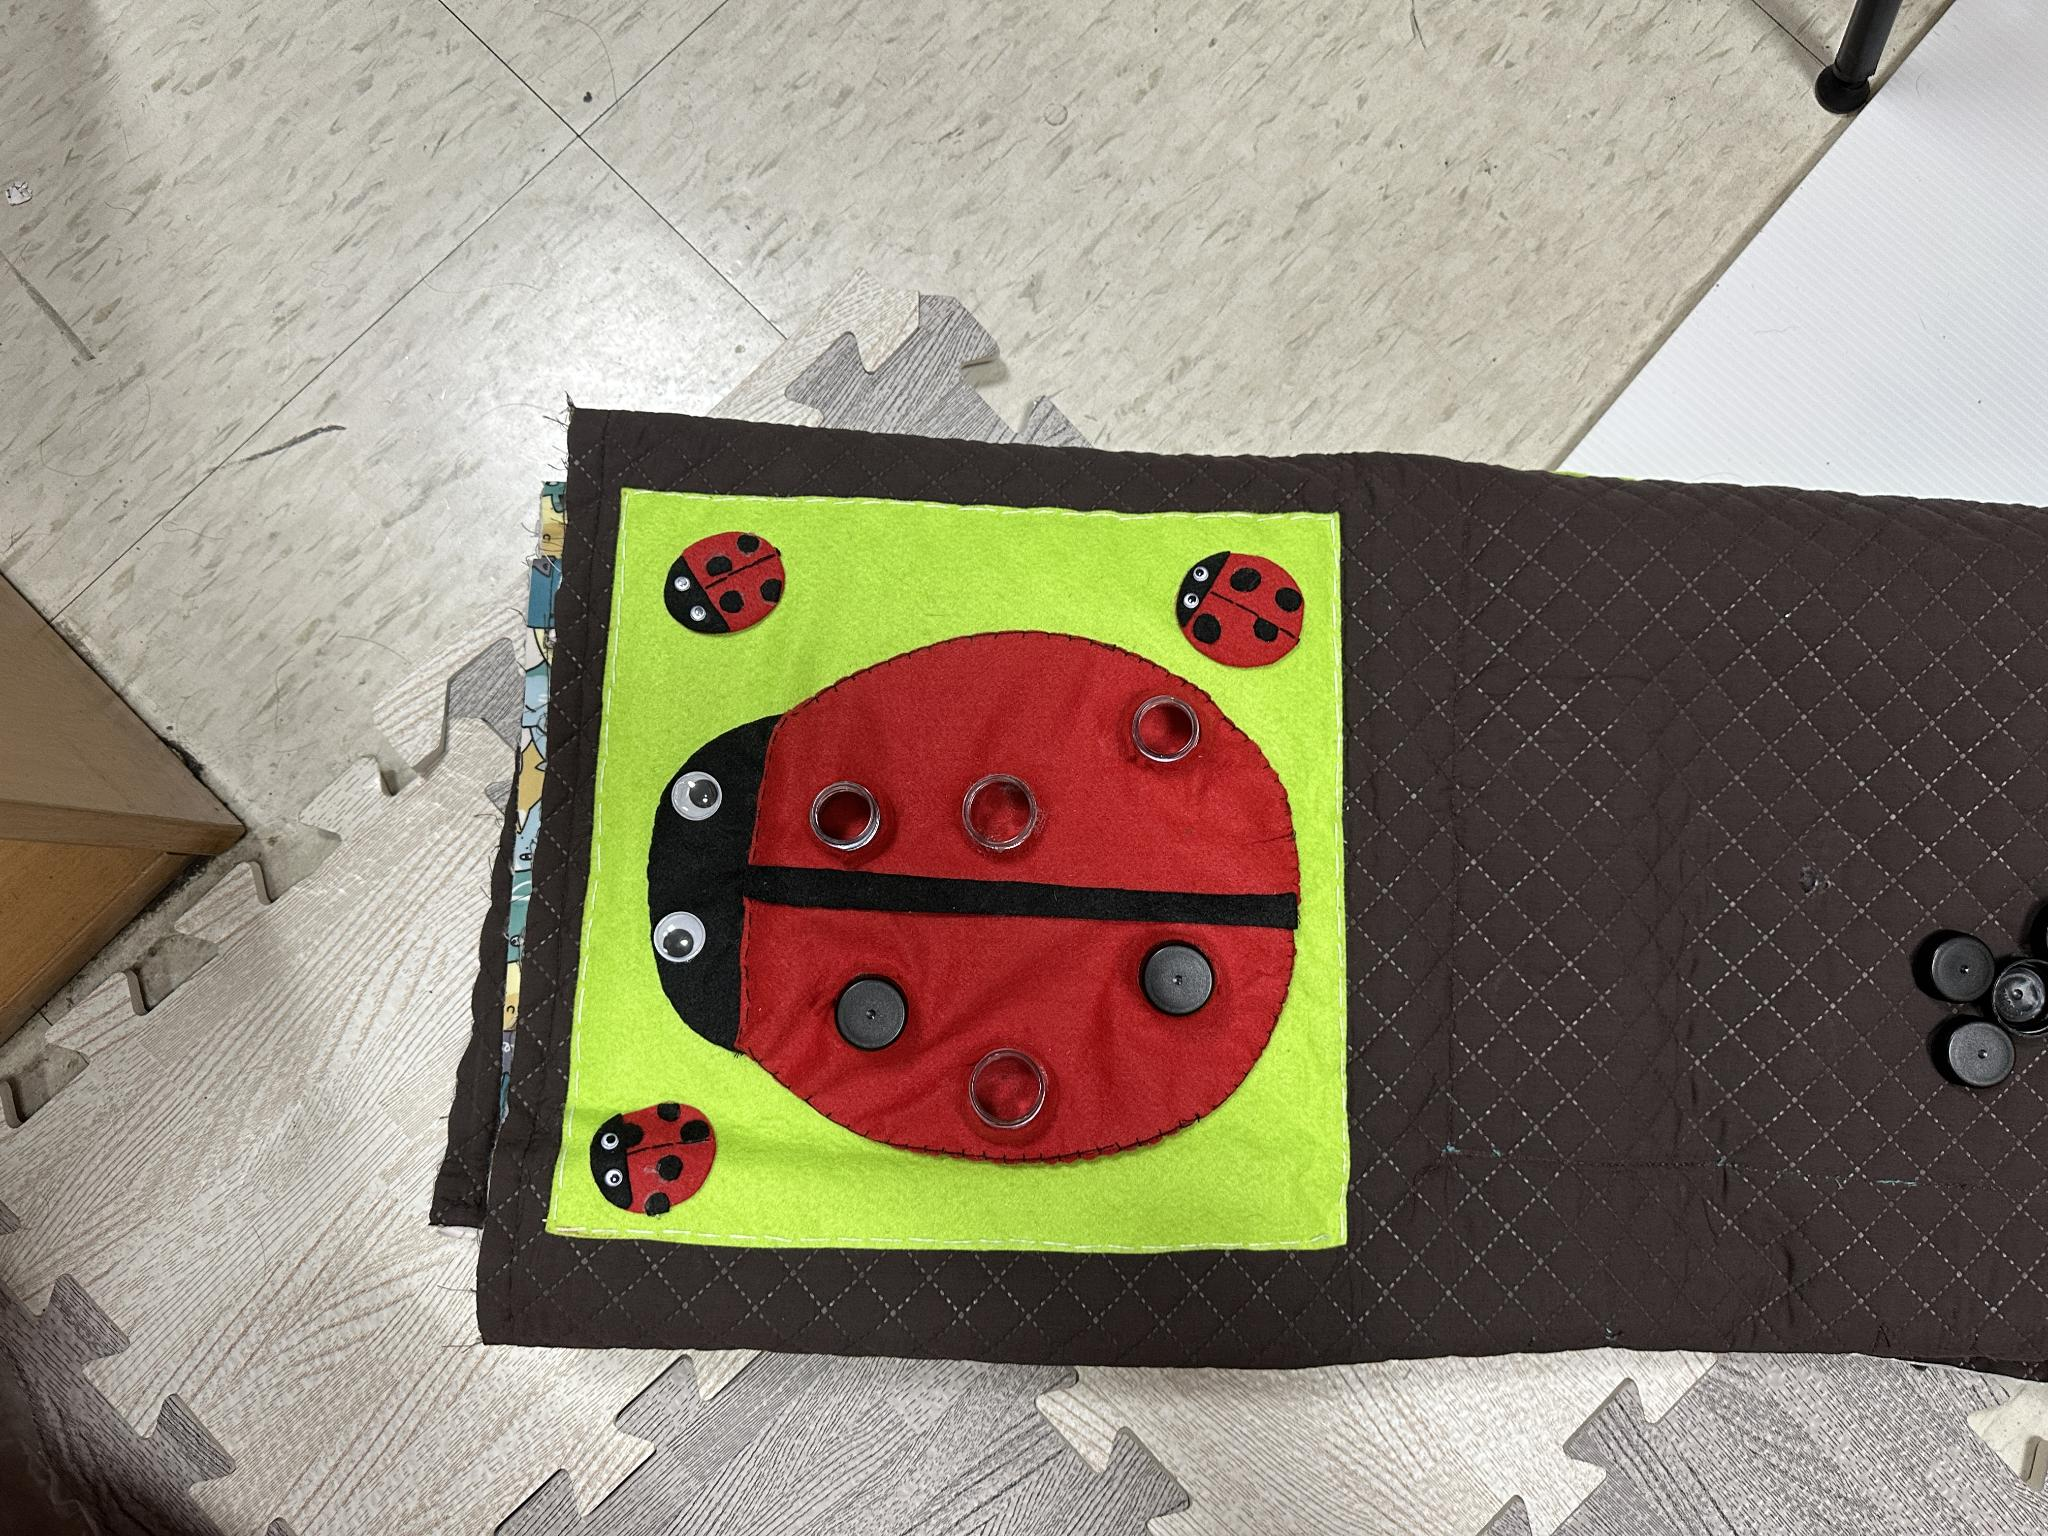cap_ok: (1114, 926, 1243, 1042), (811, 955, 932, 1063)
